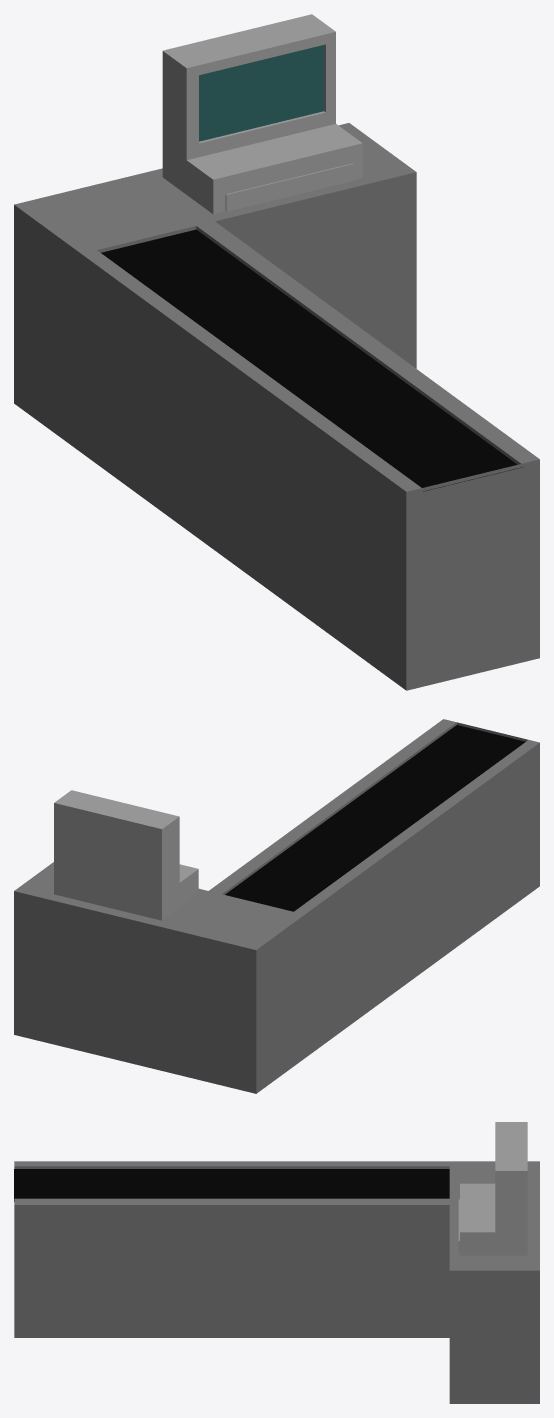
Rendered from register.fbx.
The picture shows the model from 3 angles, top to bottom: view 1: azimuth 30°, elevation 25°; view 2: azimuth 150°, elevation 25°; view 3: azimuth 270°, elevation 25°; orthographic projection. The views are drawn at different scales.
Visible parts, largest first — view 1: Cube, Plane, Cube.001, Plane.001; view 2: Cube, Plane, Cube.001; view 3: Cube, Plane, Cube.001.
Boxes of the visible parts, x1,y1,x2,y2 form: Cube: (14,123,539,690); Plane: (101,229,523,491); Cube.001: (162,14,362,214); Plane.001: (199,45,323,141); Cube: (14,719,539,1093); Plane: (225,725,525,911); Cube.001: (54,790,198,920); Cube: (14,1161,539,1403); Plane: (14,1169,449,1201); Cube.001: (458,1122,527,1255).
Bounding box in the file's own units: 255 × 237 × 518.
